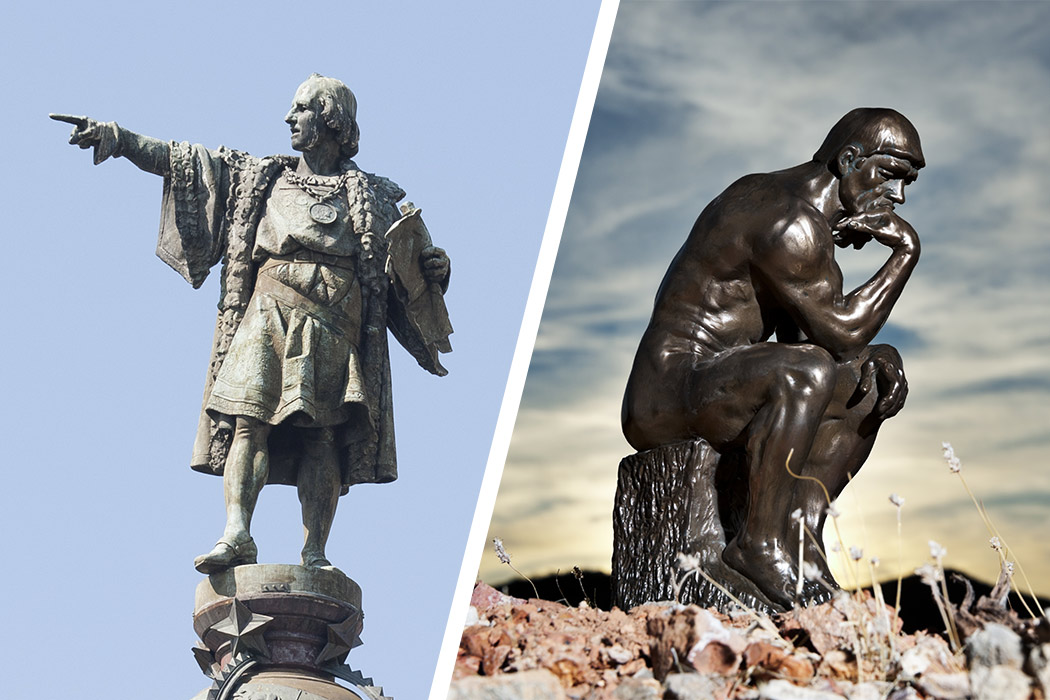person-like: (44, 64, 460, 579), (613, 96, 939, 620)
